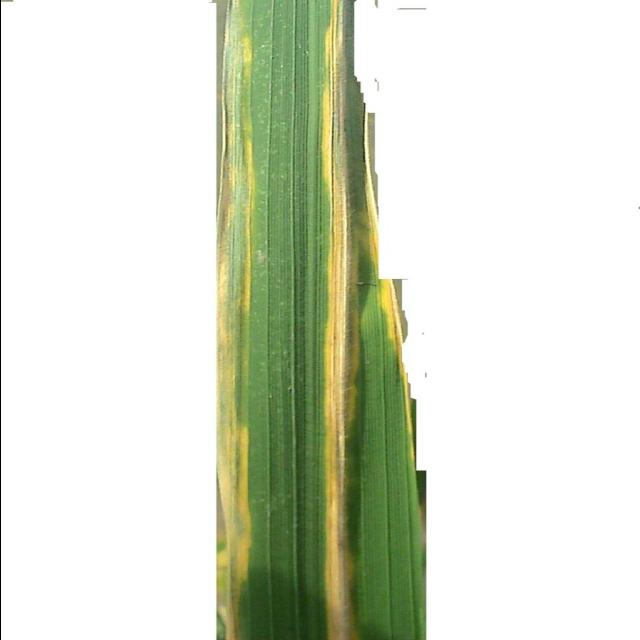Unhealthy: (316, 0, 366, 640), (212, 162, 253, 640), (378, 278, 413, 438)
